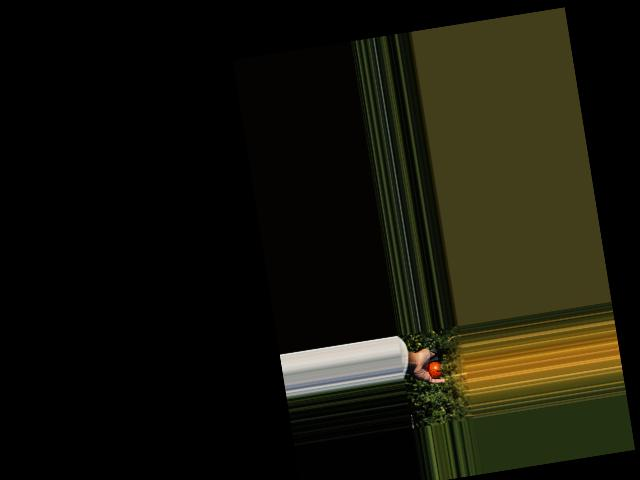tomato: (427, 361, 444, 379)
